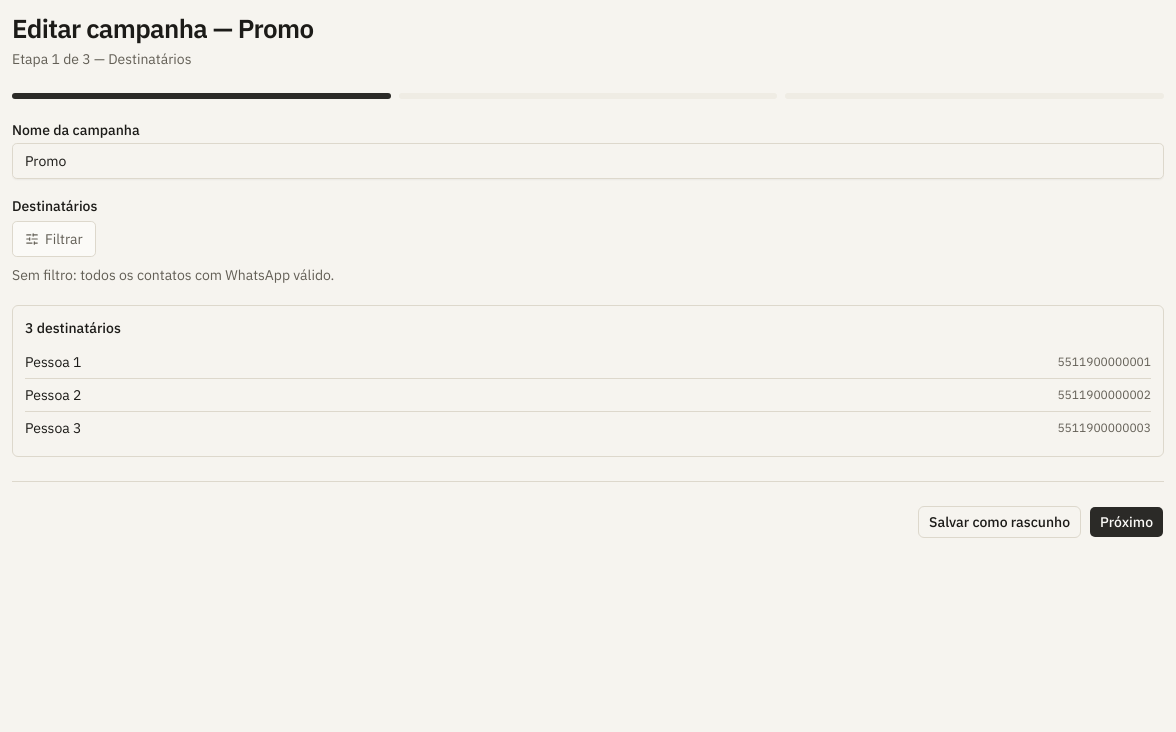
B54-05 — variáveis, arquivo e prévia do template na campanha › CA-B54-16: should mostrar um seletor de origem por variável, com as origens do contato, o campo personalizado e Texto fixo
This screenshot has width=1176, height=732.
expect the text "3 destinatários" is shown: met, box [25, 318, 121, 338]
Step 1. Click the button "Próximo" → (1126, 522), box [1089, 506, 1164, 538]
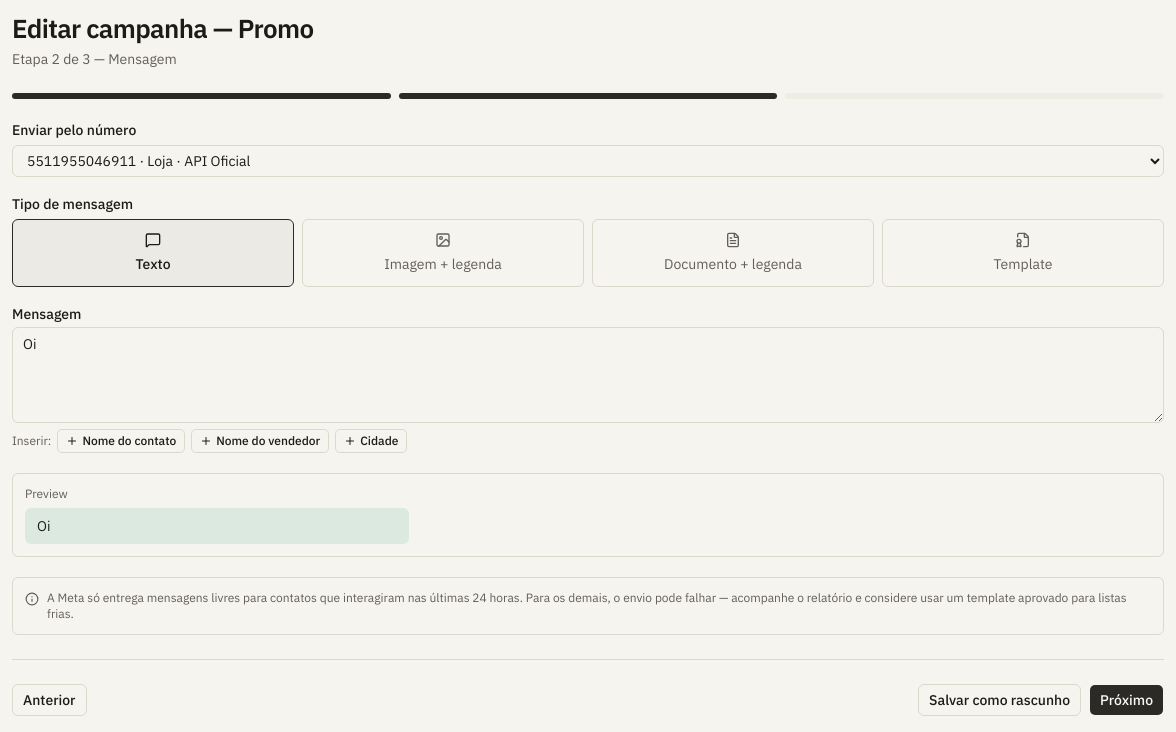
expect the text "Tipo de mensagem" is shown: met, box [12, 194, 133, 212]
Step 2. Click the button "Template" → (1023, 252), box [882, 218, 1164, 286]
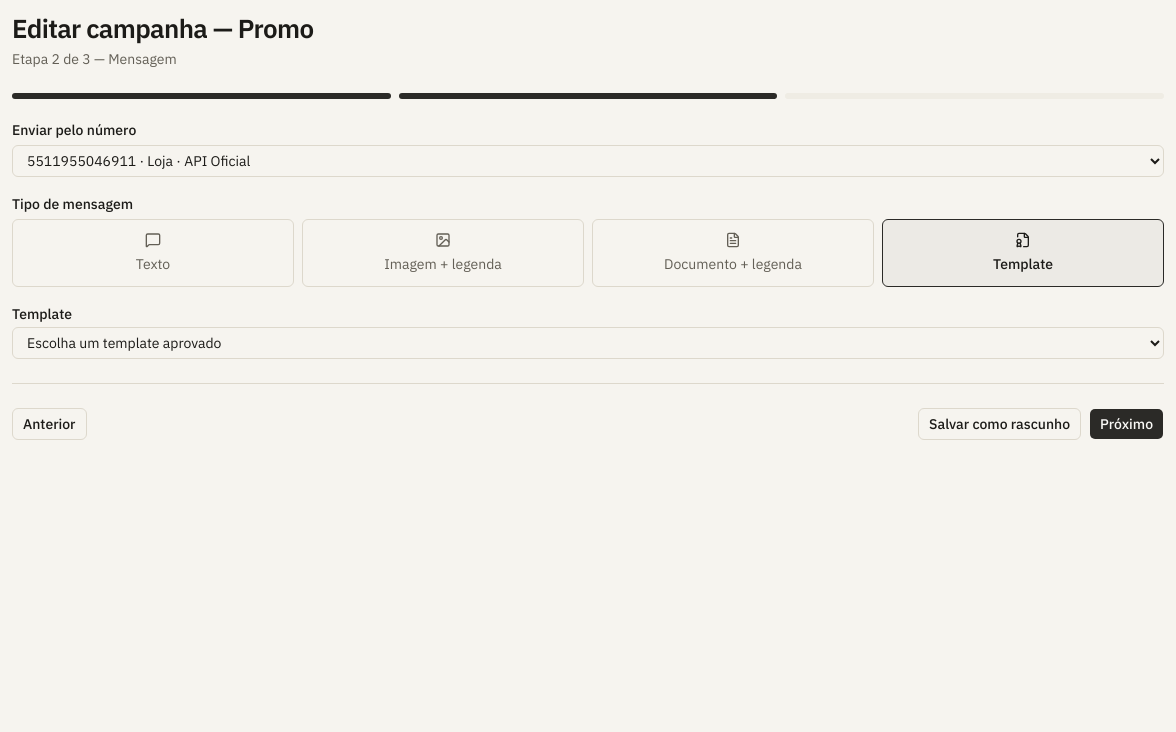
Step 3. Select "vendedor_da_loja · pt_BR" in the dropdown labelled "Template" → (588, 342), box [12, 326, 1164, 358]
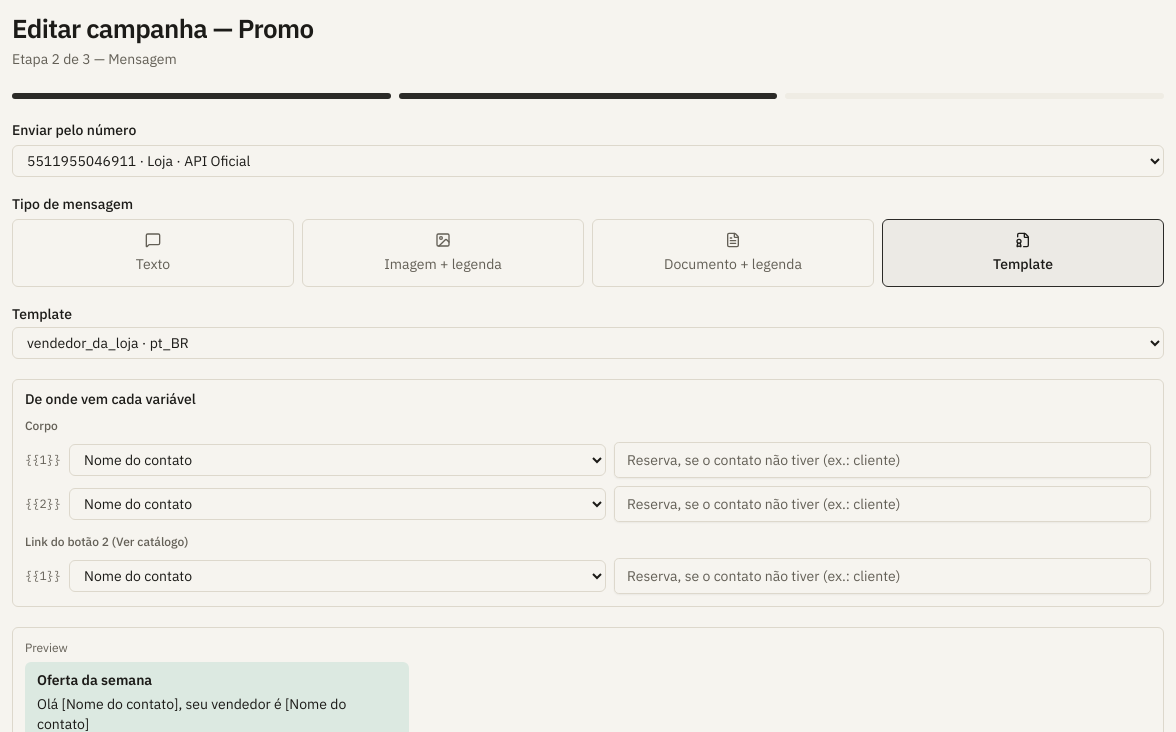
expect the number of dropdowns named "Origem da variável" is 3: met
Step 4. Select "Texto fixo" in the dropdown named "Origem da variável" → (338, 504), box [69, 488, 606, 520]
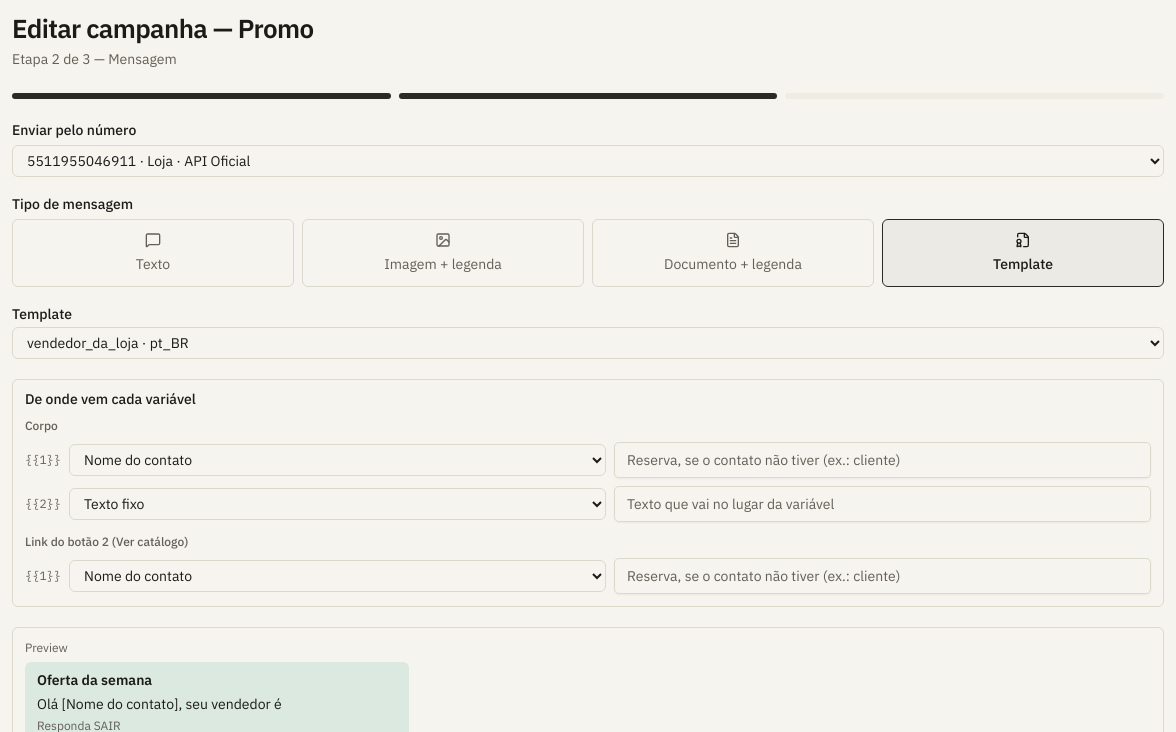
expect the field named "Texto fixo da variável {{2}}" is shown: met, box [614, 486, 1151, 522]
